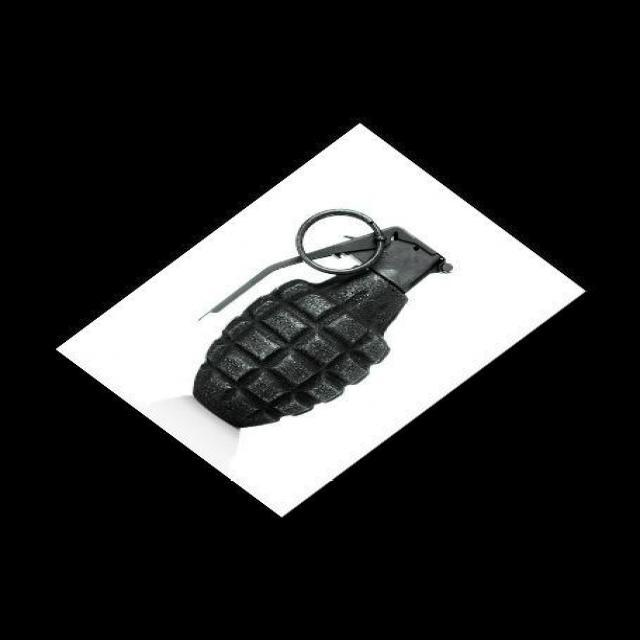Grenade: (192, 207, 452, 426)
